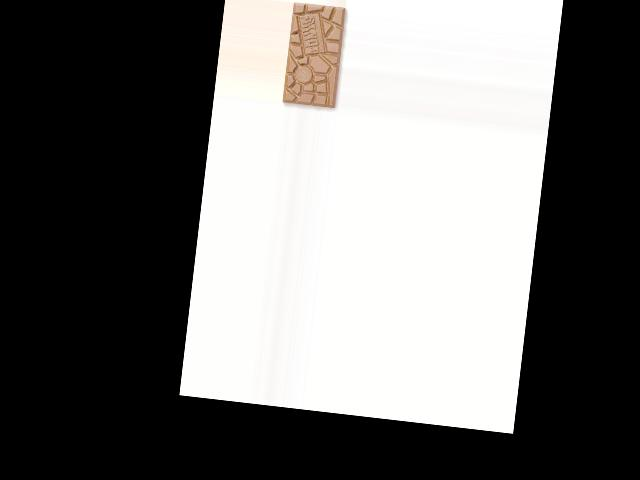chocolate: (282, 1, 349, 109)
